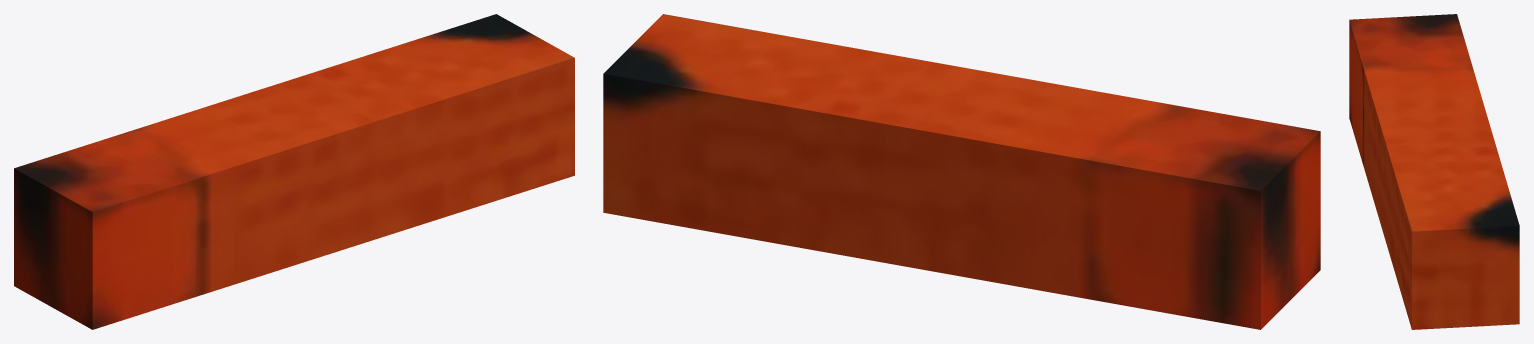
File: frame__wheel_fork_strut_1.glb
3 renders of one model, left to right at view 1: azimuth 30°, elevation 25°; view 2: azimuth 150°, elevation 25°; view 3: azimuth 270°, elevation 25°, orthographic. The views are drawn at different scales.
Parts seen in each view (by area): view 1: geometry_0; view 2: geometry_0; view 3: geometry_0.
Part boxes in pixels (<box>): geometry_0: <box>14,14,574,329</box>; geometry_0: <box>603,14,1320,329</box>; geometry_0: <box>1349,14,1519,329</box>.
Size of the model in its own units: 0.1232 by 0.026 by 0.0408.
Materials: 1 (1 with a texture image).
